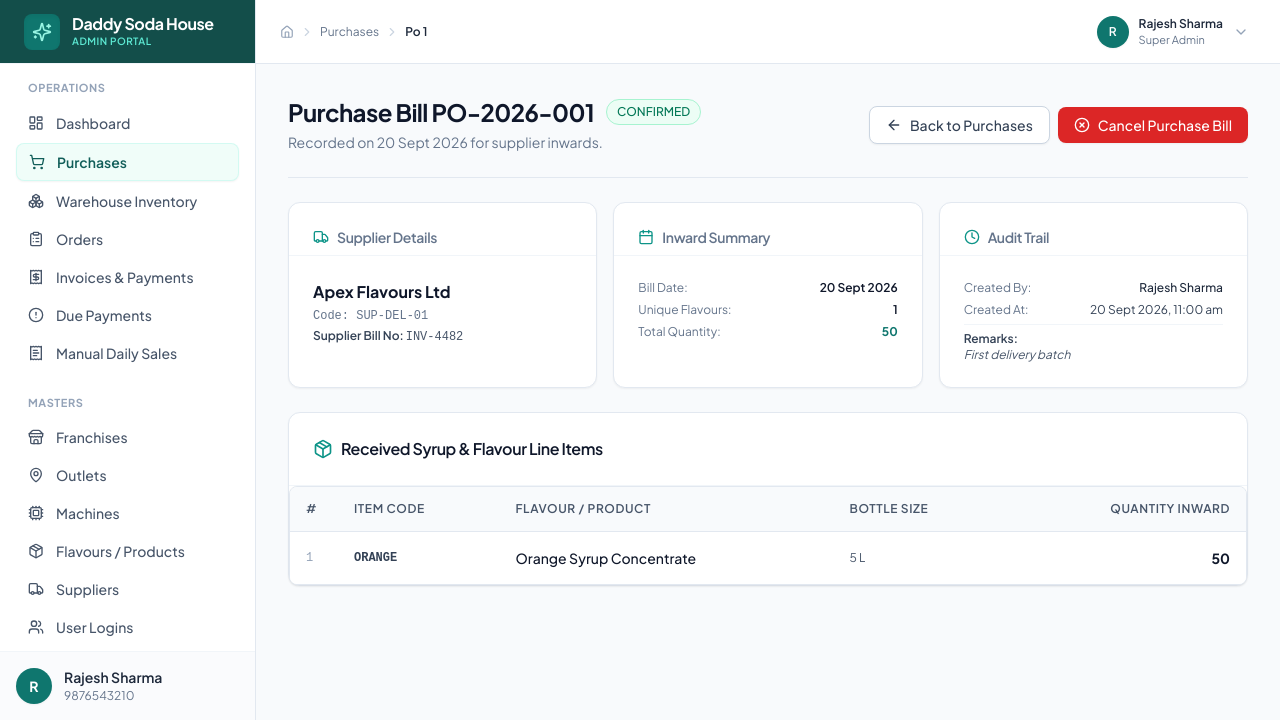
Test: Daddy Soda House Purchase & Warehouse Inventory Module › displays backend error message when stock cancellation/adjustment fails
The image size is (1280, 720).
Click the button "Cancel Purchase Bill" at [1153, 124], box [1058,106,1248,142]
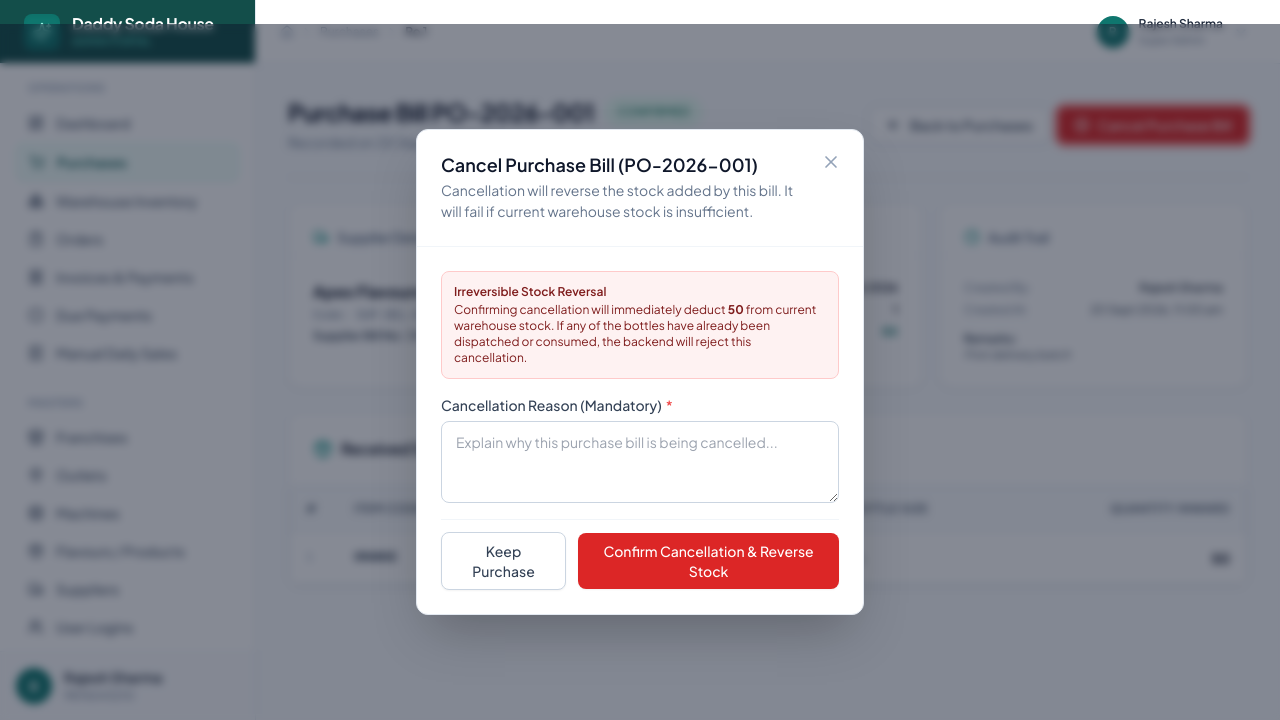
Type "Test cancellation" into the text box labelled "Cancellation Reason (Mandatory)*" at [640, 462], box [441,421,839,503]
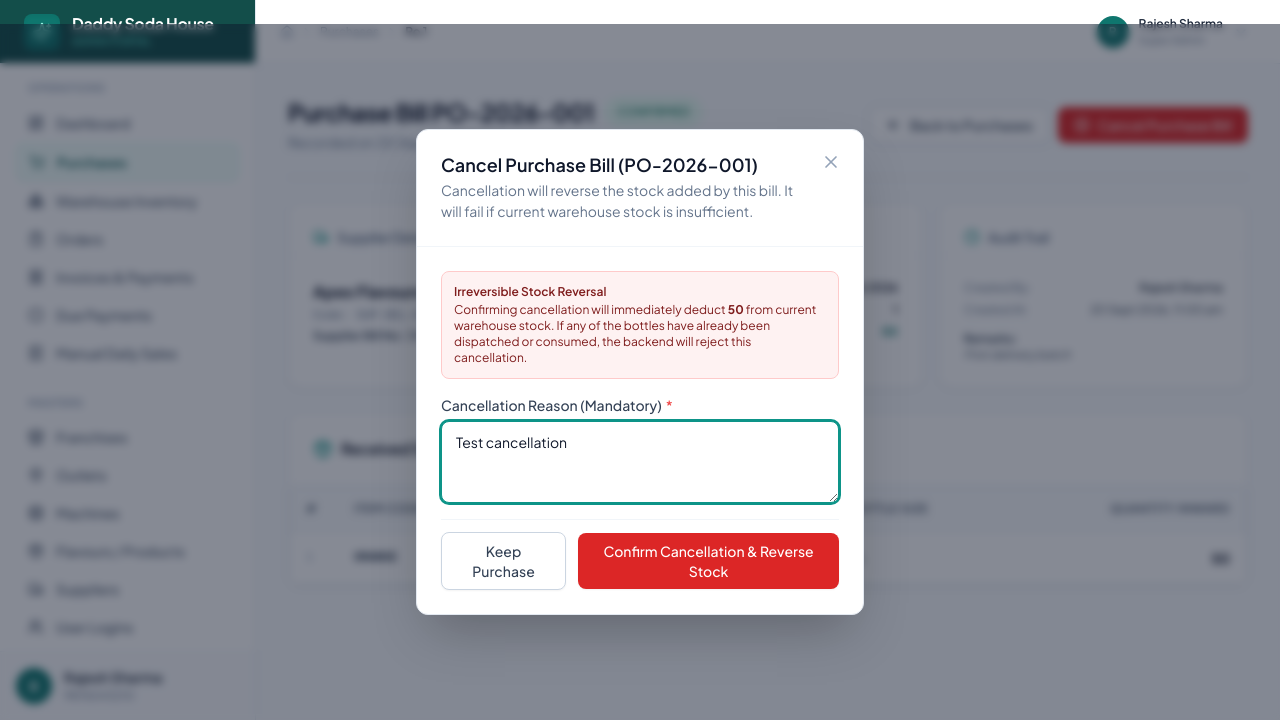
Click the button "Confirm Cancellation & Reverse Stock" at [708, 561], box [578,533,839,589]
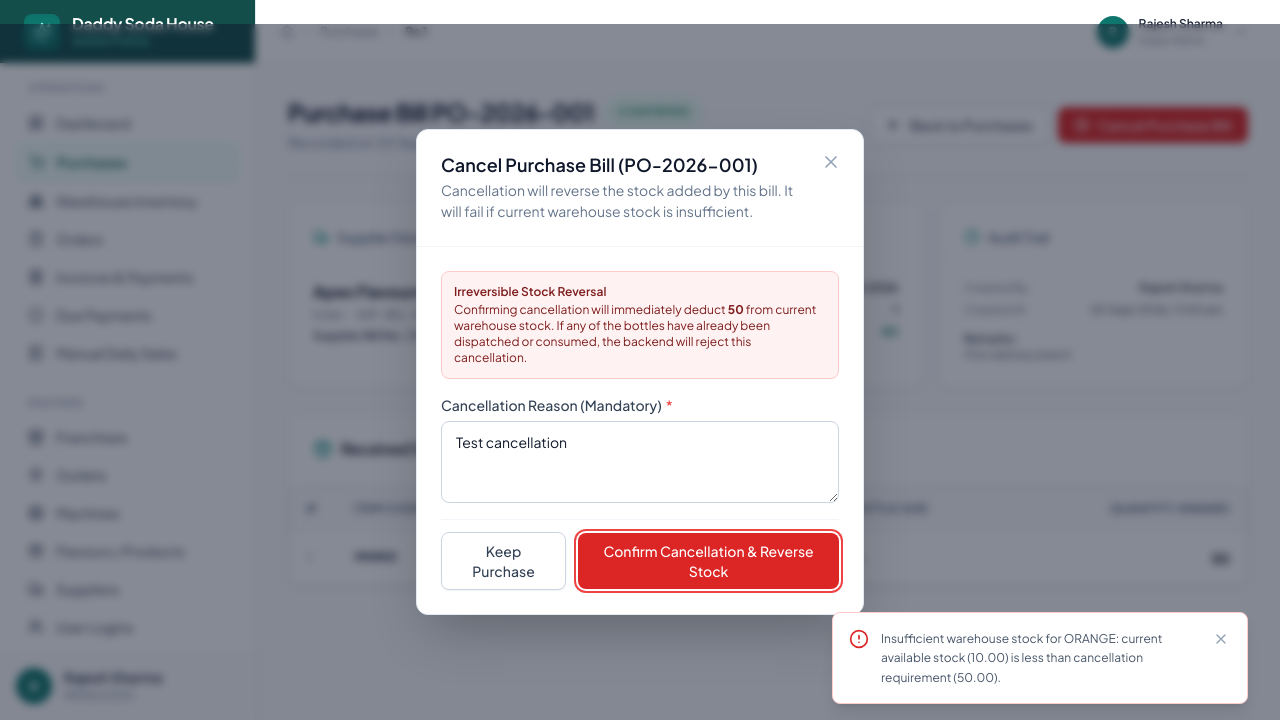
expect the text "Insufficient warehouse stock for ORANGE: current available stock (10.00) is less than cancellation requirement (50.00" is shown: met, box [881,630,1162,684]
